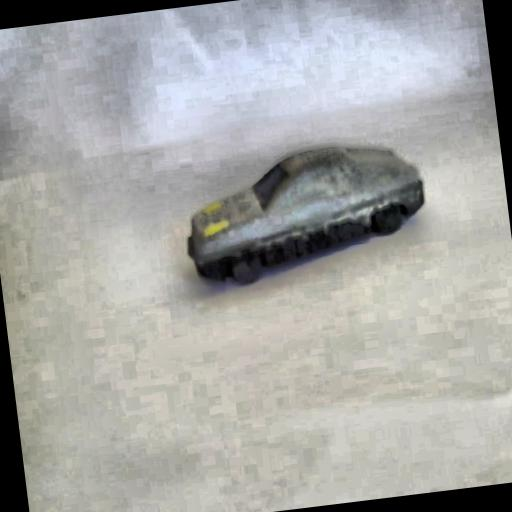normal_car: (170, 128, 436, 296)
